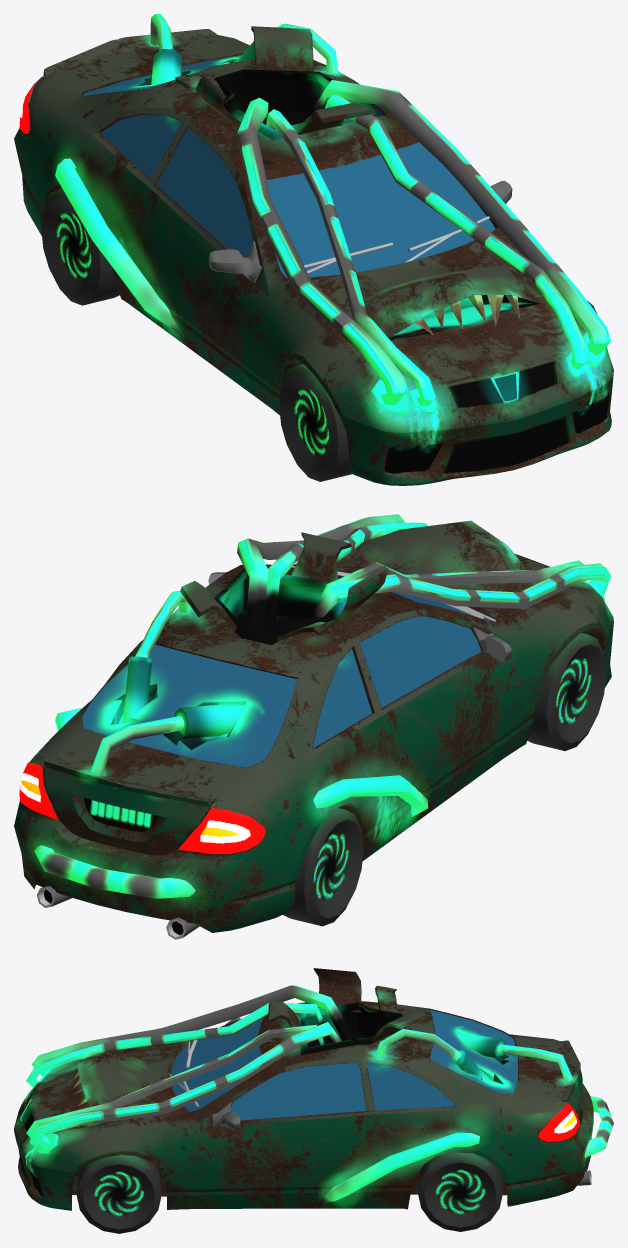
The model's file is Merky-Mutate.fbx.
3 views of the same model, one above another, from view 1: azimuth 30°, elevation 25°; view 2: azimuth 150°, elevation 25°; view 3: azimuth 270°, elevation 25° (orthographic). The views are drawn at different scales.
Parts seen in each view (by area): view 1: Merky-Mutate, MerkWheelM-FR, MerkWheelM-BR; view 2: Merky-Mutate, MerkWheelM-FR, MerkWheelM-BR; view 3: Merky-Mutate, MerkWheelM-BL, MerkWheelM-FL.
Part boxes in pixels (left/top/right/bottom): Merky-Mutate: left=14, top=14, right=613, bottom=485; MerkWheelM-FR: left=279, top=363, right=351, bottom=481; MerkWheelM-BR: left=41, top=188, right=119, bottom=305; Merky-Mutate: left=14, top=514, right=613, bottom=939; MerkWheelM-FR: left=527, top=633, right=606, bottom=750; MerkWheelM-BR: left=283, top=808, right=363, bottom=926; Merky-Mutate: left=14, top=968, right=613, bottom=1210; MerkWheelM-BL: left=418, top=1152, right=502, bottom=1231; MerkWheelM-FL: left=76, top=1155, right=161, bottom=1233.
Size of the model in its own units: 216 by 175 by 500.
